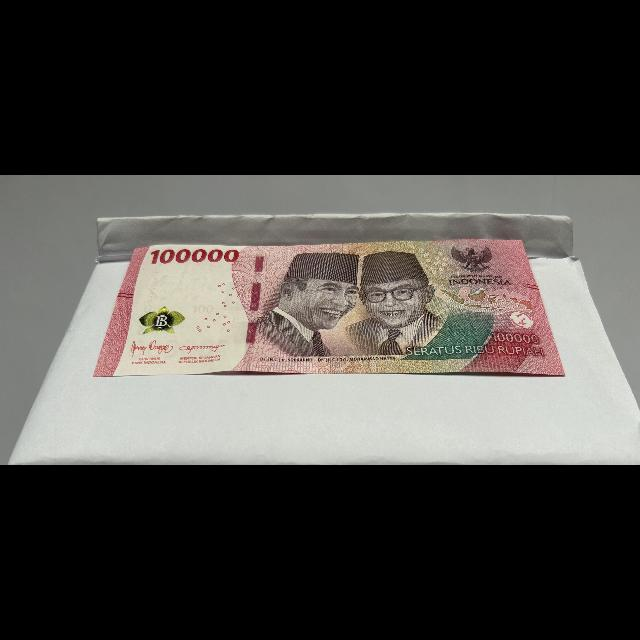Asli-100k: (90, 236, 569, 379)
Tinta-Asli-100k: (135, 304, 190, 336)
